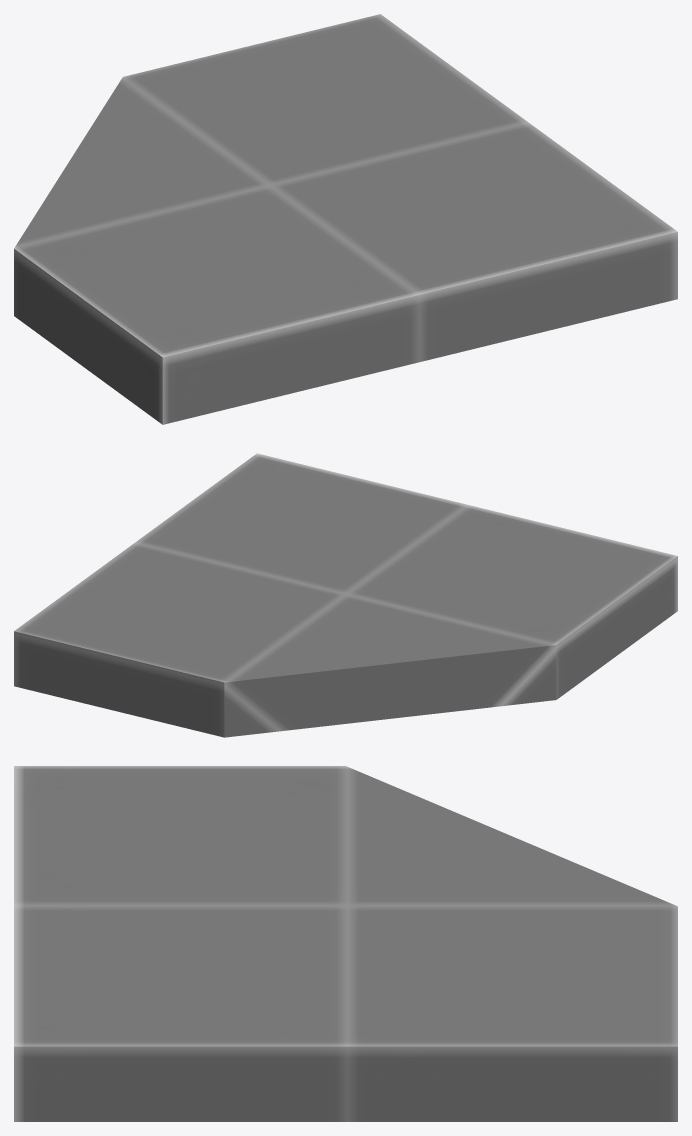
File: PlatformCorner_B.fbx
3 renders of one model, top to bottom at view 1: azimuth 30°, elevation 25°; view 2: azimuth 150°, elevation 25°; view 3: azimuth 270°, elevation 25°, orthographic. The views are drawn at different scales.
Parts seen in each view (by area): view 1: Plateforme02; view 2: Plateforme02; view 3: Plateforme02.
Boxes of the visible parts, x1,y1,x2,y2 form: Plateforme02: (14, 14, 677, 424); Plateforme02: (14, 453, 677, 737); Plateforme02: (14, 766, 677, 1121).
Size of the model in its own units: 8 by 8 by 1.
1 material, 1 textured.
